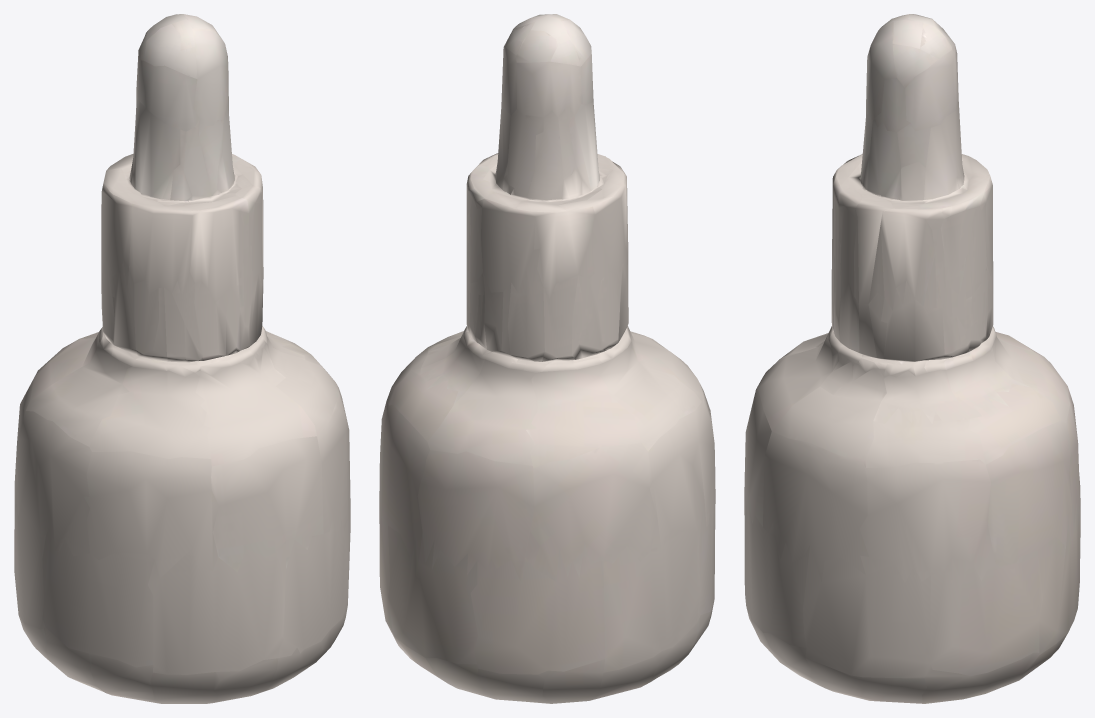
File: bottle.glb
The picture shows the model from 3 angles, left to right: view 1: azimuth 30°, elevation 25°; view 2: azimuth 150°, elevation 25°; view 3: azimuth 270°, elevation 25°; orthographic projection.
Visible parts, largest first — view 1: Mesh_0; view 2: Mesh_0; view 3: Mesh_0.
Boxes of the visible parts, <box> form: Mesh_0: <box>14,14,350,703</box>; Mesh_0: <box>379,14,715,703</box>; Mesh_0: <box>744,14,1080,703</box>.
Bounding box in the file's own units: 0.9074 × 1.9 × 0.9079.
Materials: 1 (1 with a texture image).
